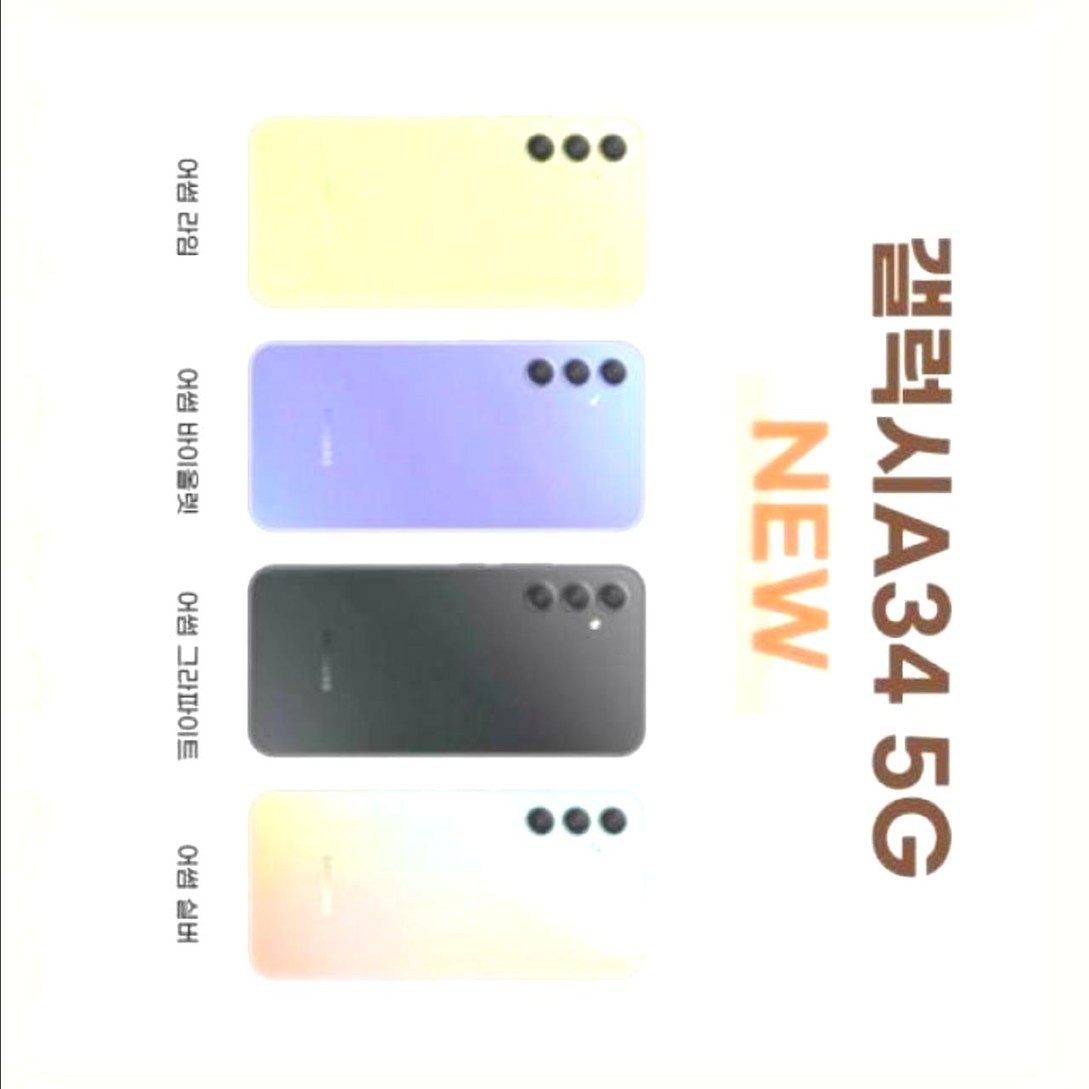phone: (243, 322, 645, 532), (236, 562, 649, 766), (238, 790, 648, 987), (237, 117, 644, 315)
